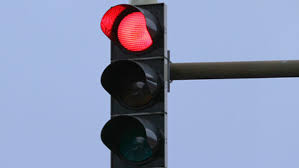signal: (100, 2, 165, 168)
